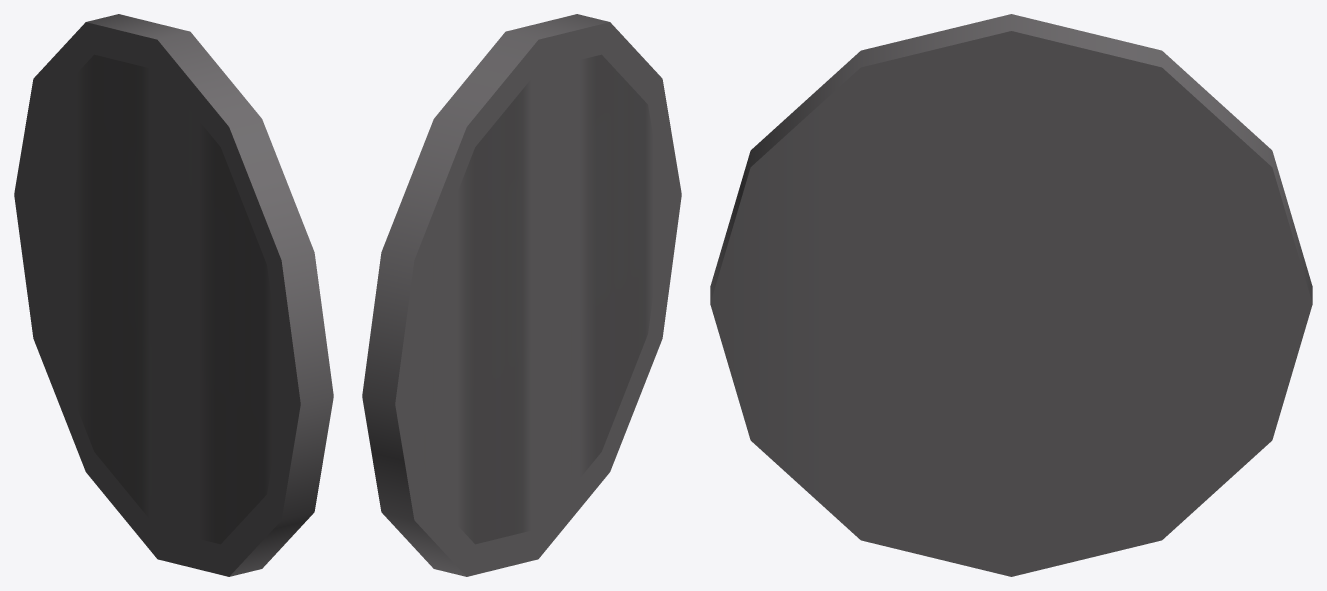
The model's file is Sign_37.fbx.
3 views of the same model, side by side, from view 1: azimuth 30°, elevation 25°; view 2: azimuth 150°, elevation 25°; view 3: azimuth 270°, elevation 25° (orthographic). The views are drawn at different scales.
Parts seen in each view (by area): view 1: Sign_37; view 2: Sign_37; view 3: Sign_37.
Boxes of the visible parts, box(x1,y1,x2,y2) form: Sign_37: box(14, 14, 333, 576); Sign_37: box(362, 14, 681, 576); Sign_37: box(710, 14, 1312, 576).
Bounding box in the file's own units: 6 × 90.23 × 90.23.
